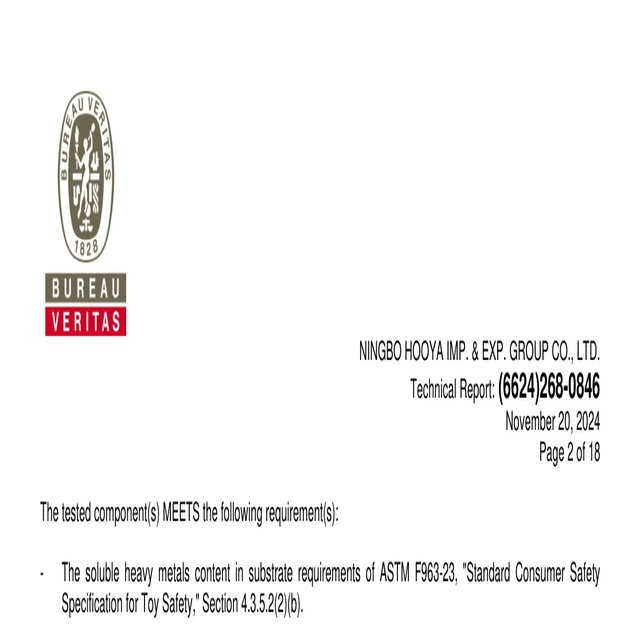bureau_veritas: (44, 89, 128, 342)
